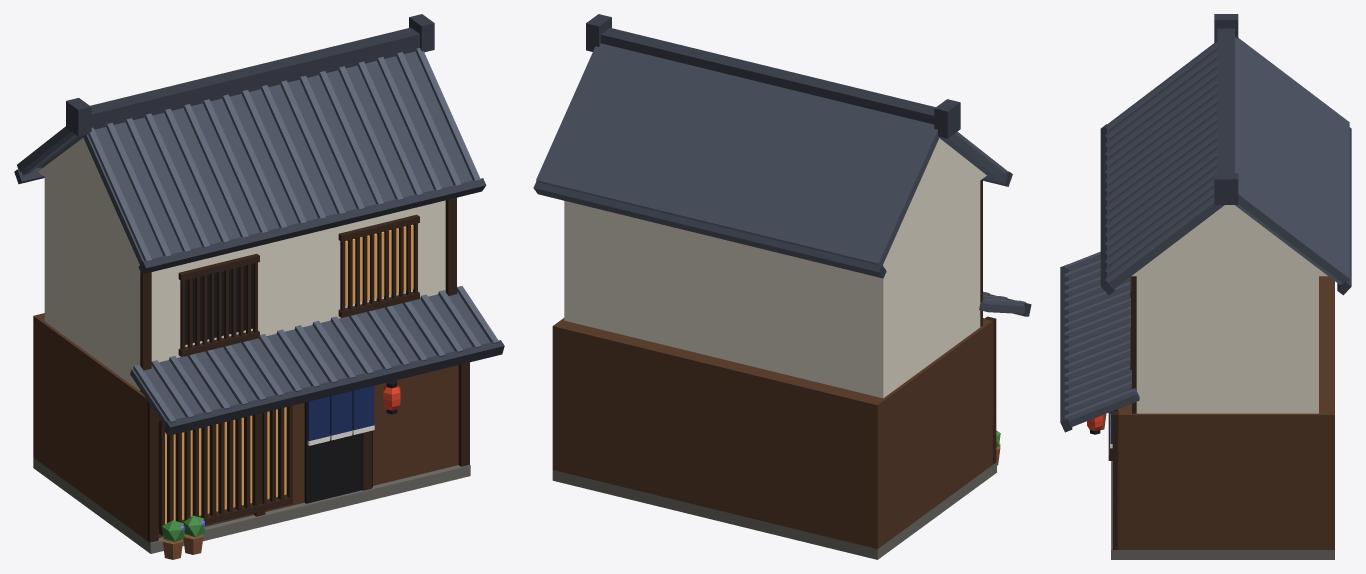
Rendered from machiya-a.glb.
3 views of the same model, side by side, from view 1: azimuth 30°, elevation 25°; view 2: azimuth 150°, elevation 25°; view 3: azimuth 270°, elevation 25° (orthographic). The views are drawn at different scales.
Parts seen in each view (by area): view 1: MachiyaA_Roof, MachiyaA_Rib, MachiyaA_Plaster, MachiyaA_Wood, MachiyaA_WoodMid, MachiyaA_Ridge, MachiyaA_Caps, MachiyaA_Glow, MachiyaA_Base, MachiyaA_Noren, MachiyaA_Leaf, MachiyaA_Pot; view 2: MachiyaA_WoodMid, MachiyaA_Plaster, MachiyaA_Roof, MachiyaA_Ridge, MachiyaA_Base, MachiyaA_Wood, MachiyaA_Rib; view 3: MachiyaA_Plaster, MachiyaA_WoodMid, MachiyaA_Roof, MachiyaA_Rib, MachiyaA_Ridge, MachiyaA_Base, MachiyaA_Wood.
Boxes of the visible parts, left/top/right/bottom form: MachiyaA_Roof: left=17, top=51, right=490, bottom=426; MachiyaA_Rib: left=22, top=48, right=499, bottom=422; MachiyaA_Plaster: left=38, top=138, right=445, bottom=390; MachiyaA_Wood: left=140, top=197, right=469, bottom=542; MachiyaA_WoodMid: left=33, top=313, right=458, bottom=540; MachiyaA_Ridge: left=14, top=14, right=504, bottom=435; MachiyaA_Caps: left=185, top=263, right=397, bottom=503; MachiyaA_Glow: left=165, top=224, right=413, bottom=523; MachiyaA_Base: left=33, top=458, right=470, bottom=553; MachiyaA_Noren: left=307, top=386, right=374, bottom=441; MachiyaA_Leaf: left=161, top=515, right=205, bottom=542; MachiyaA_Pot: left=162, top=534, right=203, bottom=559; MachiyaA_WoodMid: left=552, top=318, right=993, bottom=548; MachiyaA_Plaster: left=564, top=138, right=986, bottom=398; MachiyaA_Roof: left=536, top=43, right=1025, bottom=313; MachiyaA_Ridge: left=533, top=14, right=1031, bottom=316; MachiyaA_Base: left=552, top=461, right=996, bottom=559; MachiyaA_Wood: left=980, top=179, right=996, bottom=464; MachiyaA_Rib: left=882, top=131, right=1025, bottom=305; MachiyaA_Plaster: left=1131, top=205, right=1327, bottom=413; MachiyaA_WoodMid: left=1117, top=276, right=1334, bottom=549; MachiyaA_Roof: left=1068, top=37, right=1349, bottom=426; MachiyaA_Rib: left=1064, top=42, right=1342, bottom=420; MachiyaA_Ridge: left=1060, top=14, right=1351, bottom=432; MachiyaA_Base: left=1111, top=461, right=1334, bottom=559; MachiyaA_Wood: left=1108, top=276, right=1136, bottom=549.
Size of the model in its own units: 24.5 by 26.85 by 18.23.
